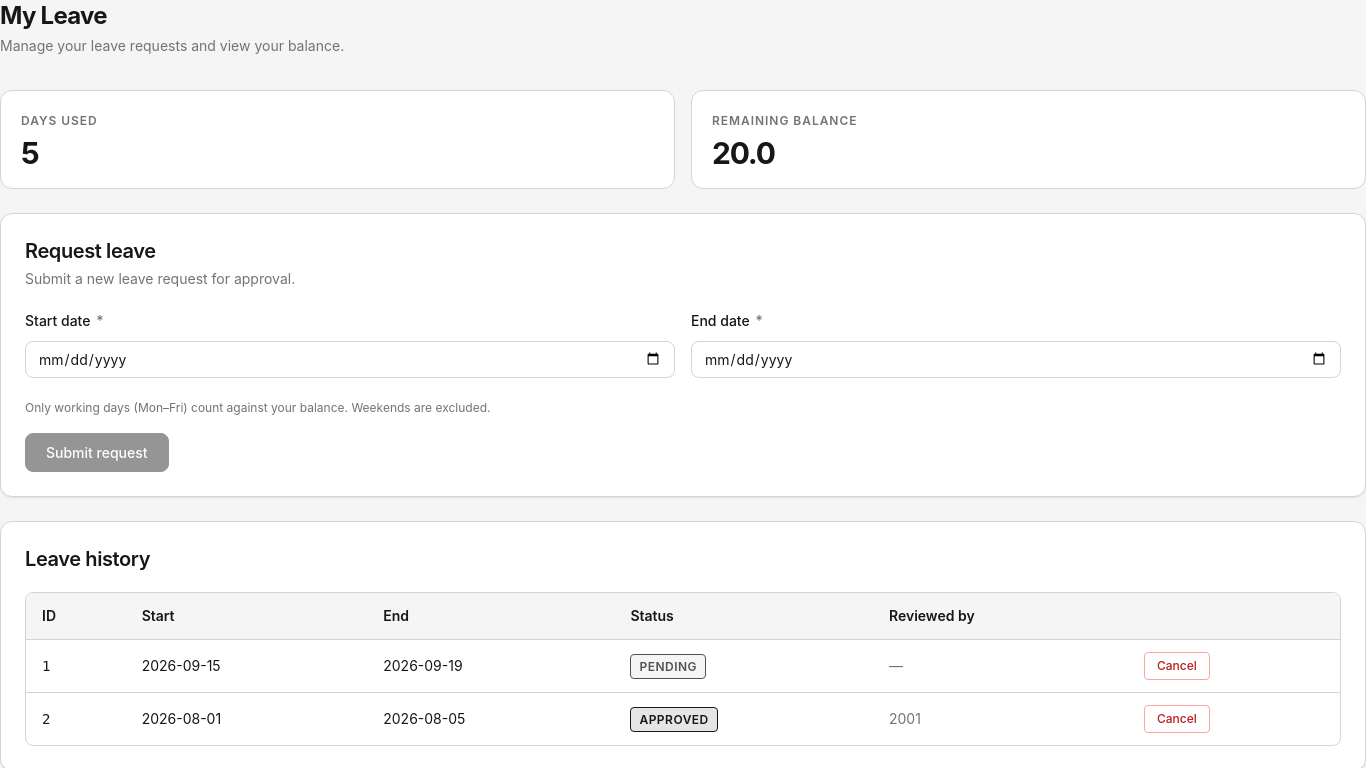
Test: MyLeavePage — cancel action › opens the cancel confirmation modal when Cancel is clicked
Click the button with aria-label "cancel leave".
click(1177, 666)  # box x1=1144 y1=652 x2=1210 y2=680
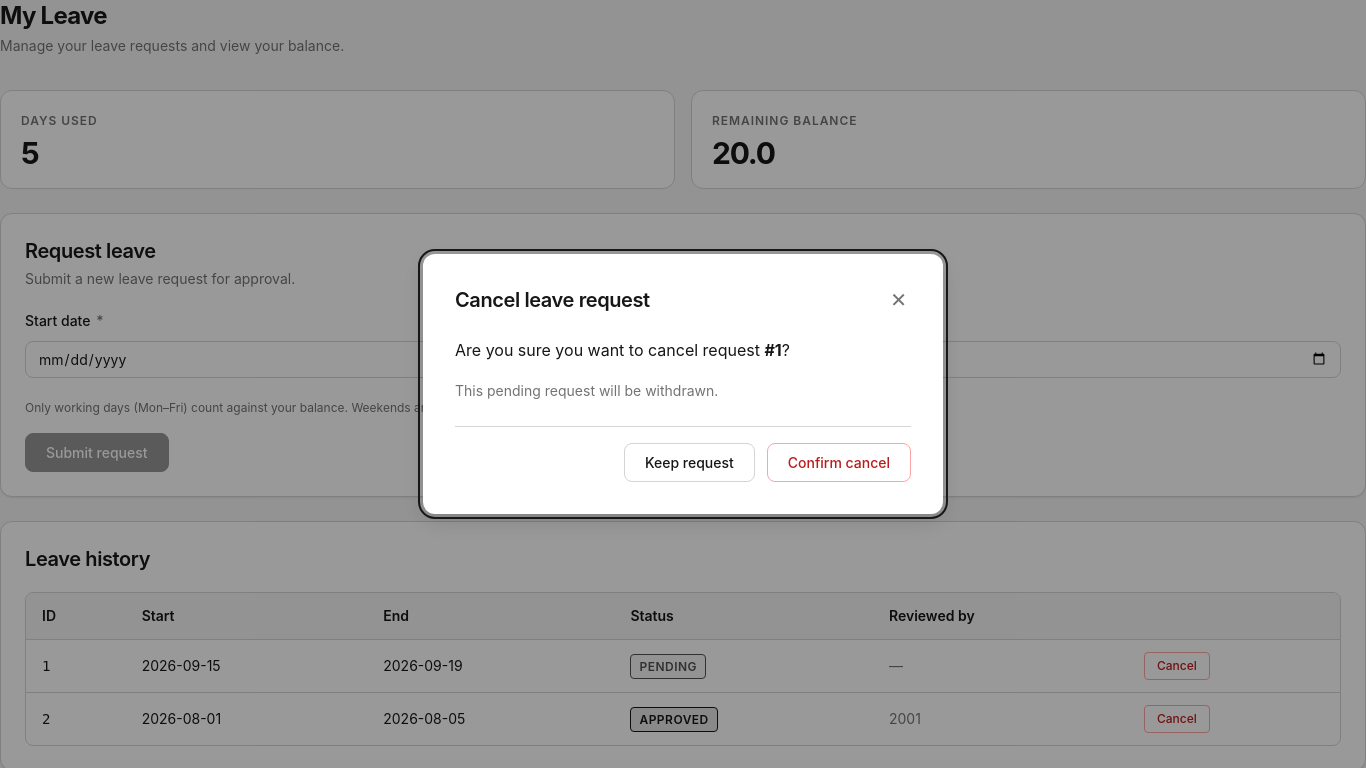
Check: the dialog is shown, box x1=423 y1=254 x2=943 y2=514
Check: the heading "Cancel leave request" is shown, box x1=455 y1=287 x2=650 y2=313
